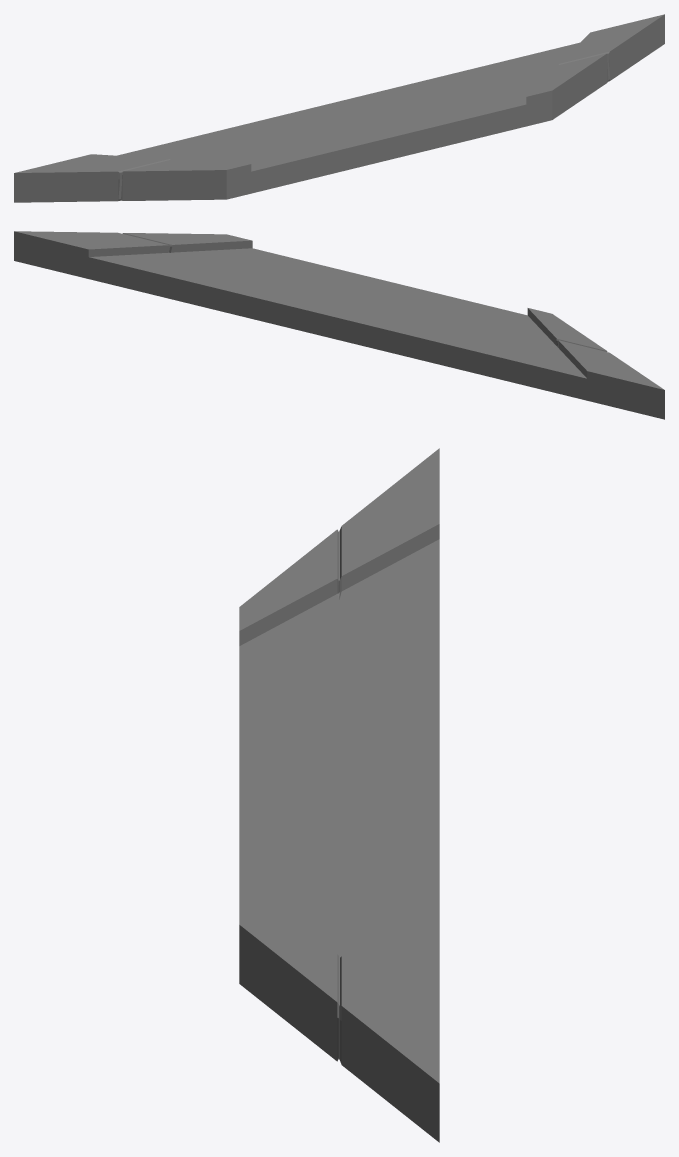
Rendered from Bridge union.fbx.
3 renders of one model, top to bottom at view 1: azimuth 30°, elevation 25°; view 2: azimuth 150°, elevation 25°; view 3: azimuth 270°, elevation 25°, orthographic. The views are drawn at different scales.
Parts seen in each view (by area): view 1: Cube.002; view 2: Cube.002; view 3: Cube.002.
Boxes of the visible parts, left/top/right/bottom form: Cube.002: left=14, top=14, right=664, bottom=202; Cube.002: left=14, top=231, right=664, bottom=419; Cube.002: left=239, top=448, right=439, bottom=1142.
Size of the model in its own units: 745 by 32.42 by 99.08.
